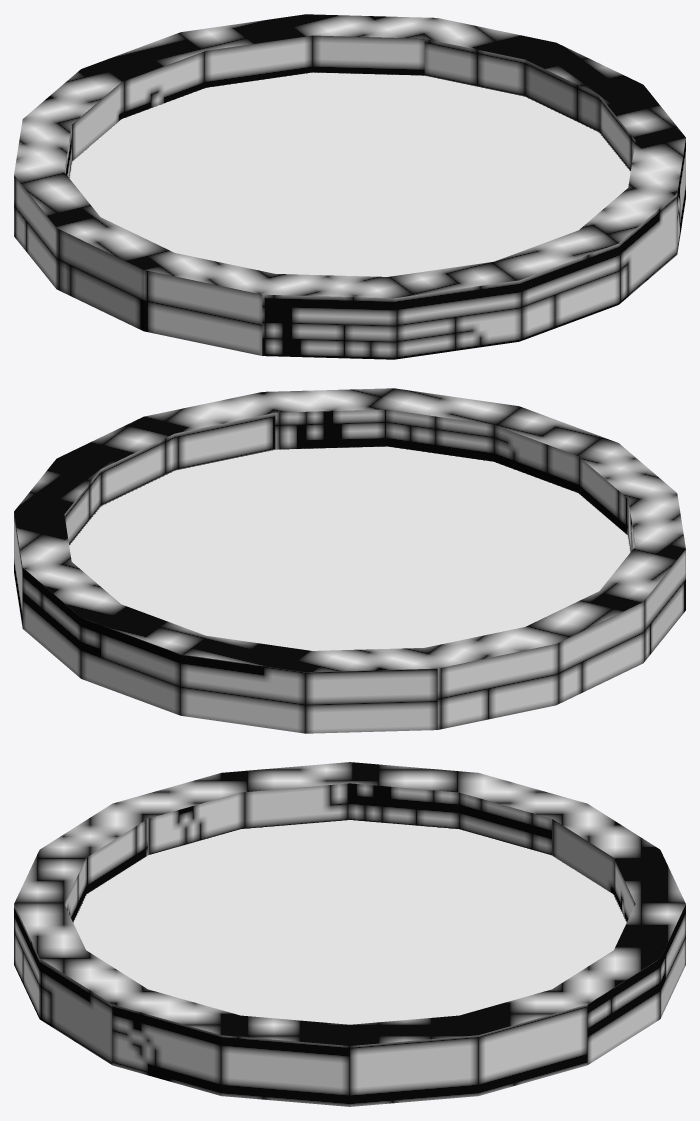
Rendered from Pizza.obj.
3 renders of one model, top to bottom at view 1: azimuth 30°, elevation 25°; view 2: azimuth 150°, elevation 25°; view 3: azimuth 270°, elevation 25°, orthographic.
Parts seen in each view (by area): view 1: Pizza; view 2: Pizza; view 3: Pizza.
Part boxes in pixels (bbox=[...]): Pizza: bbox=[14, 14, 685, 359]; Pizza: bbox=[14, 388, 685, 733]; Pizza: bbox=[14, 762, 685, 1106].
Size of the model in its own units: 1 by 0.1 by 1.
1 material, 1 textured.
